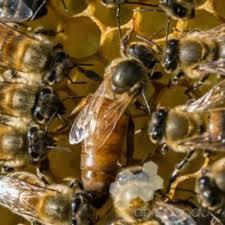Queen-Bee: (66, 38, 168, 207)
worker-bee: (148, 94, 225, 159), (0, 172, 94, 225), (160, 26, 225, 93)
